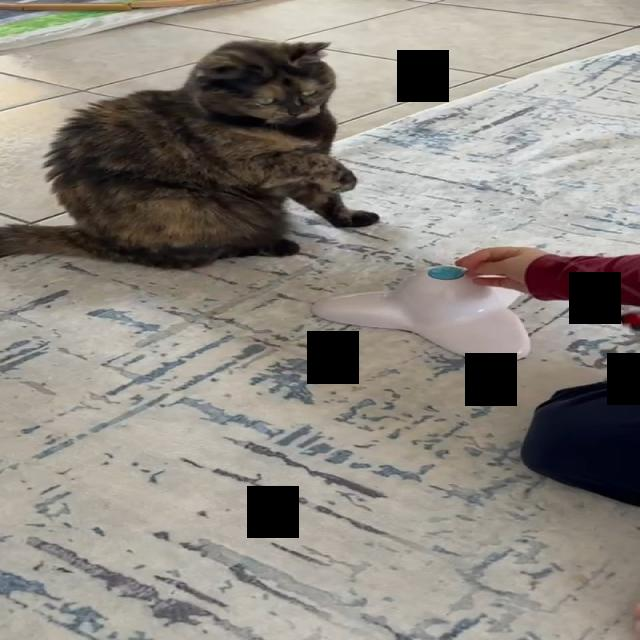authorized: (0, 39, 379, 270)
